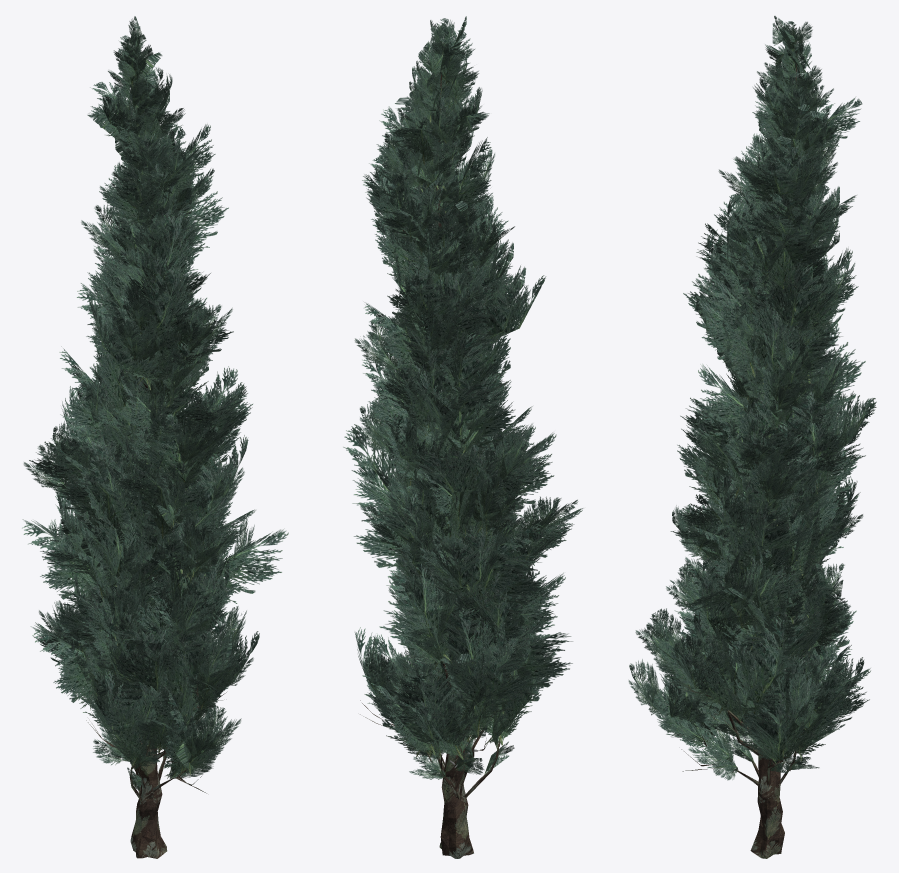
File: tree-cypress-lo.glb
The picture shows the model from 3 angles, left to right: view 1: azimuth 30°, elevation 25°; view 2: azimuth 150°, elevation 25°; view 3: azimuth 270°, elevation 25°; orthographic projection. The views are drawn at different scales.
Parts seen in each view (by area): view 1: Cypress_V2_test_Cypress_2_sided_0, Cypress_V2_test_Cypress_bark_0; view 2: Cypress_V2_test_Cypress_2_sided_0, Cypress_V2_test_Cypress_bark_0; view 3: Cypress_V2_test_Cypress_2_sided_0, Cypress_V2_test_Cypress_bark_0.
Part boxes in pixels (left/top/right/bottom): Cypress_V2_test_Cypress_2_sided_0: left=22, top=16, right=288, bottom=790; Cypress_V2_test_Cypress_bark_0: left=82, top=108, right=226, bottom=858; Cypress_V2_test_Cypress_2_sided_0: left=343, top=16, right=583, bottom=779; Cypress_V2_test_Cypress_bark_0: left=360, top=52, right=502, bottom=858; Cypress_V2_test_Cypress_2_sided_0: left=628, top=16, right=876, bottom=780; Cypress_V2_test_Cypress_bark_0: left=680, top=51, right=817, bottom=858.
Bounding box in the file's own units: 1.66 × 5.27 × 1.49.
Materials: 3 (2 with a texture image).
